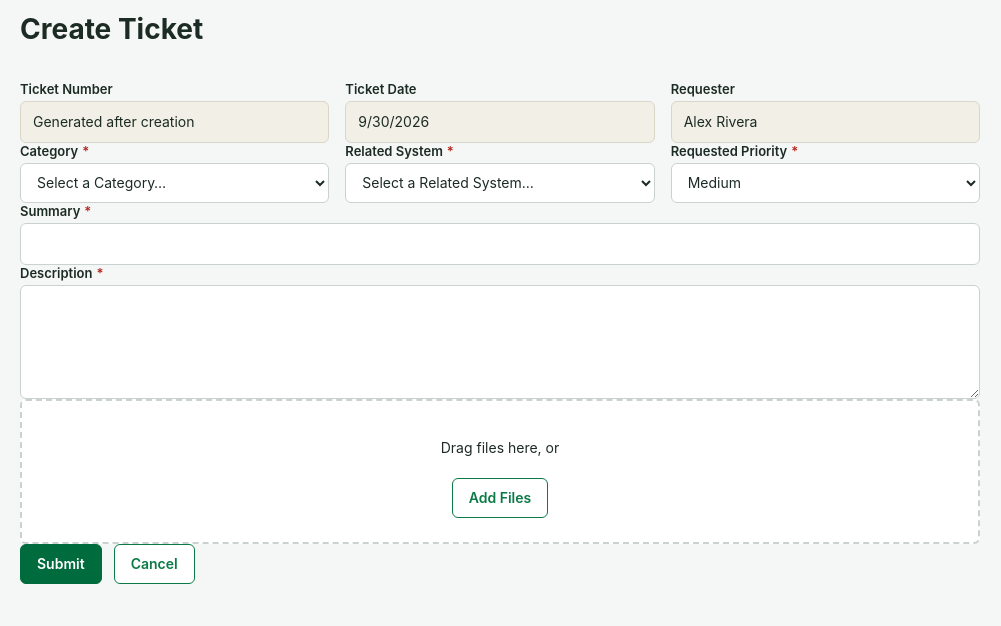
Scenario: CreateTicketForm › shows an inline message for an empty Summary and sends no API request
Select "Hardware" in the dropdown labelled "Category*" at coordinates (175, 182), box [20, 162, 329, 202]
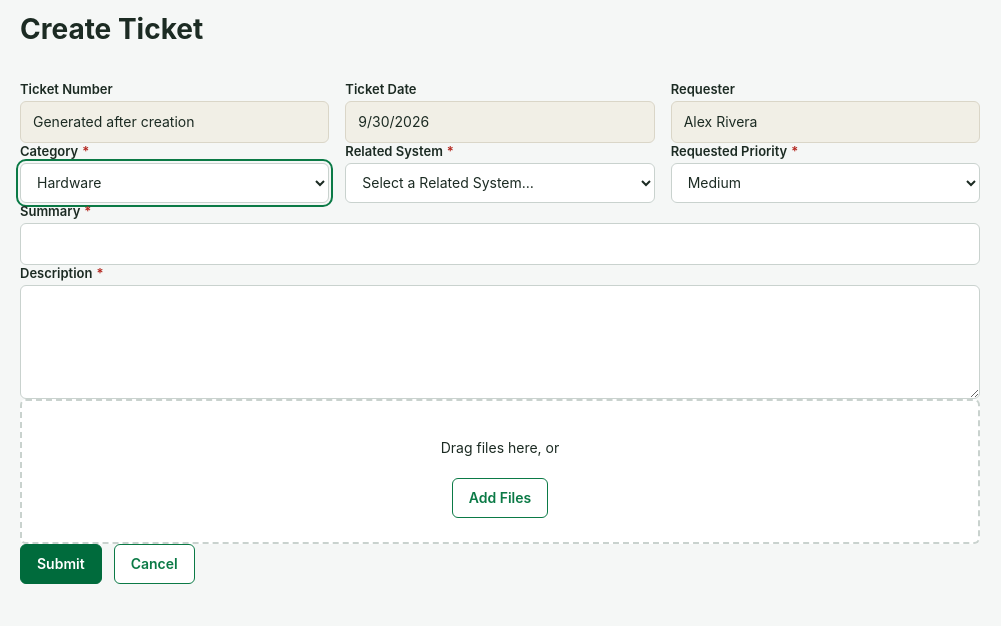
Select "Email" in the dropdown labelled "Related System*" at coordinates (500, 182), box [345, 162, 655, 202]
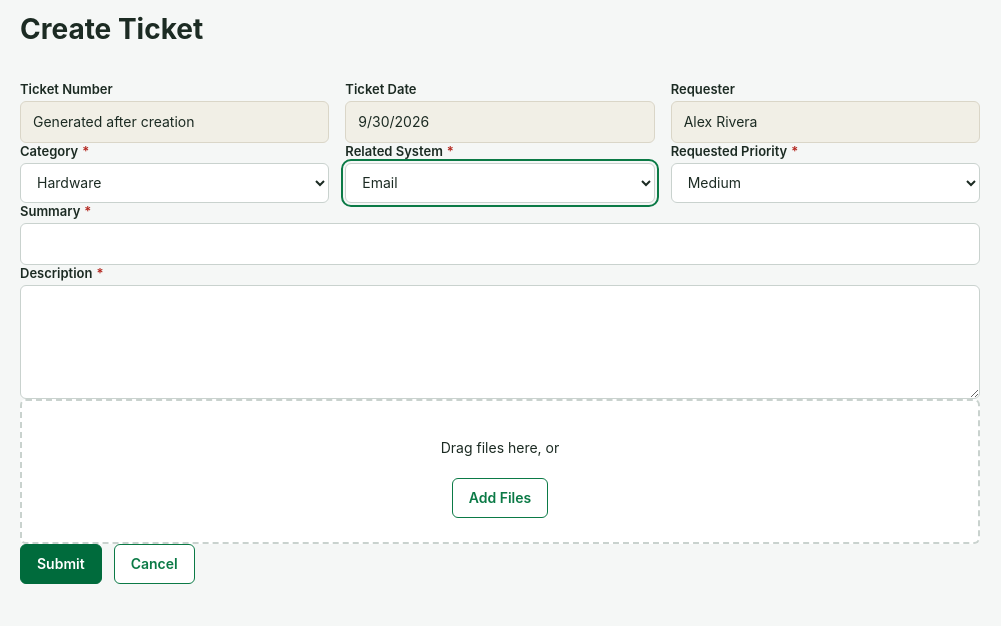
Type "Screen stays black after the firmware update finished overnight." into the text box labelled "Description*" at coordinates (500, 342), box [20, 284, 980, 398]
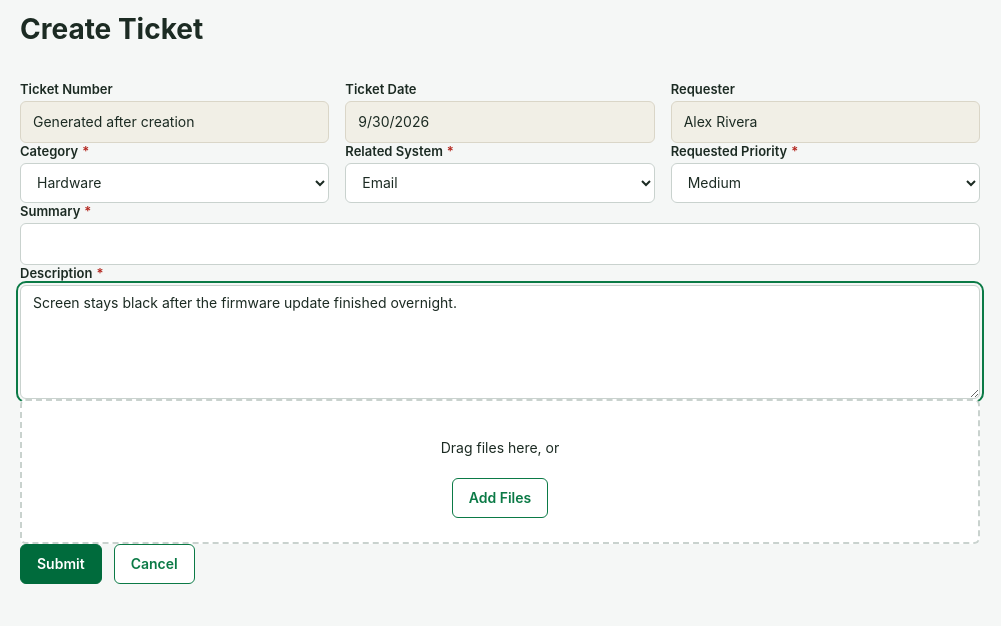
Summary intentionally left empty.
Click the button "Submit" at coordinates (61, 564), box [20, 544, 102, 584]
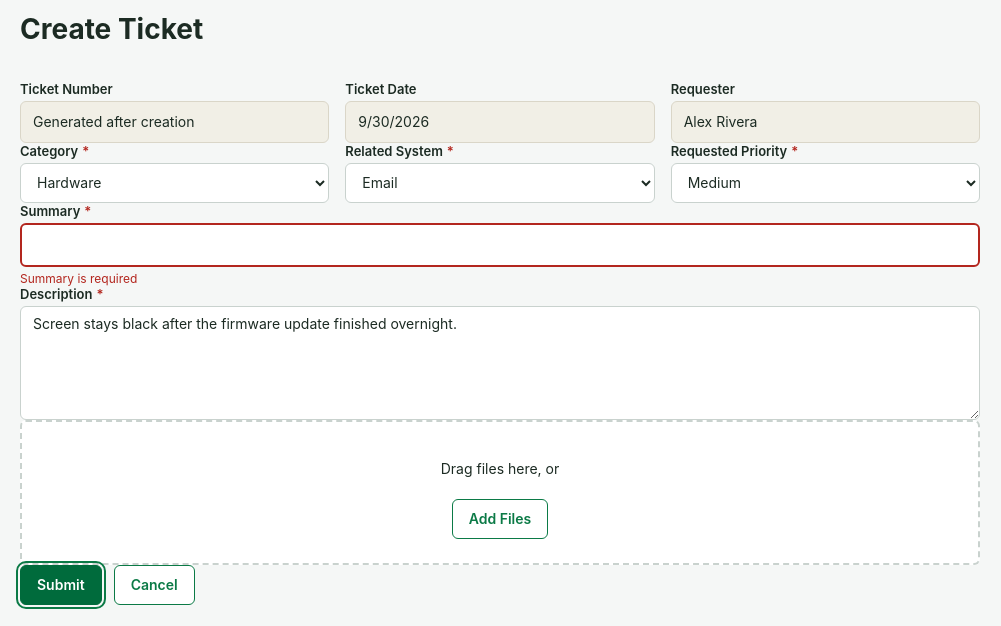
Now the text "Summary is required" is shown, box [20, 270, 137, 286]
